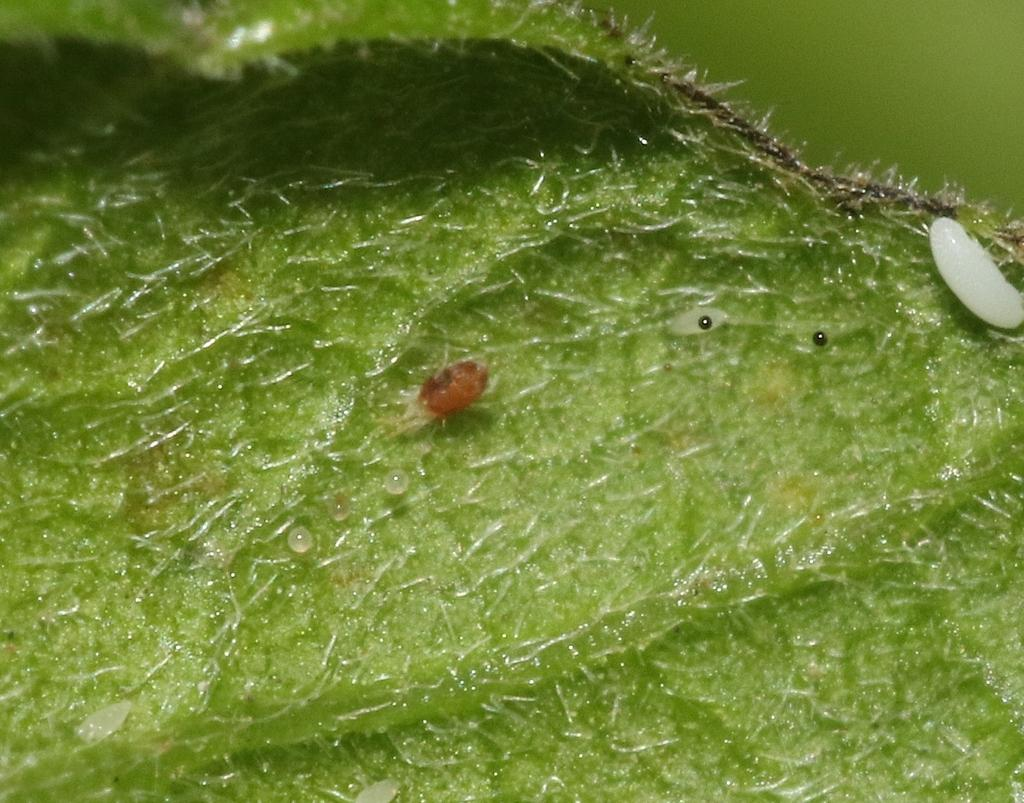tiny_pests: (363, 327, 529, 460)
